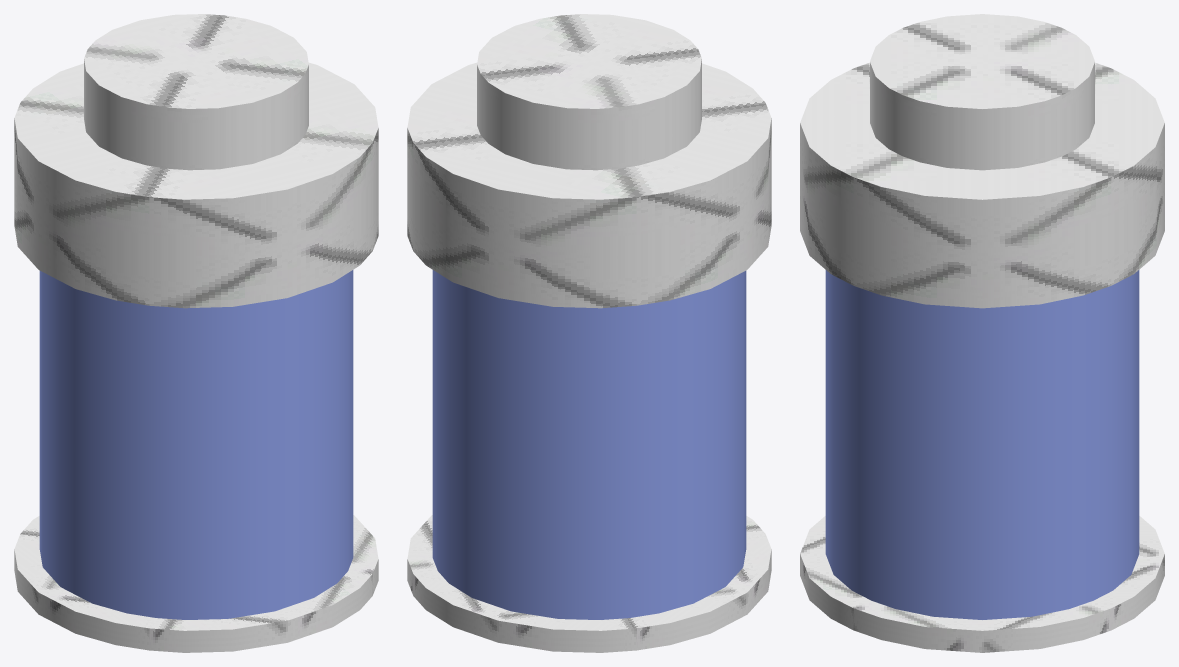
3 views of the same model, side by side, from view 1: azimuth 30°, elevation 25°; view 2: azimuth 150°, elevation 25°; view 3: azimuth 270°, elevation 25° (orthographic).
Visible parts, largest first — view 1: 5; view 2: 5; view 3: 5.
Boxes of the visible parts, x1,y1,x2,y2 form: 5: (14, 14, 378, 652); 5: (407, 14, 771, 652); 5: (800, 14, 1164, 652).
Bounding box in the file's own units: 132 × 206 × 132.
